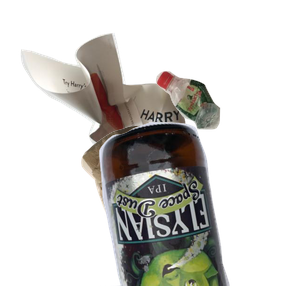glass: (97, 120, 300, 300)
paper: (18, 30, 213, 210)
plastic: (153, 68, 300, 190)
trash: (79, 123, 281, 300)
